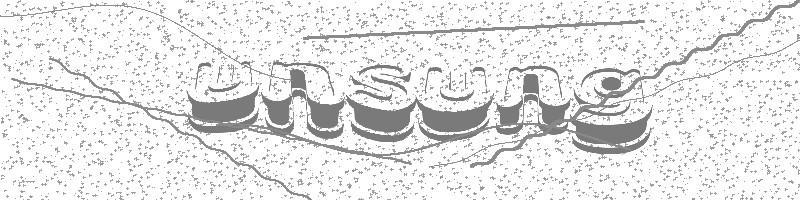g: (572, 68, 653, 153)
n: (261, 61, 346, 140), (496, 66, 571, 135)
s: (348, 65, 416, 141)
u: (416, 67, 492, 139), (188, 63, 260, 132)
